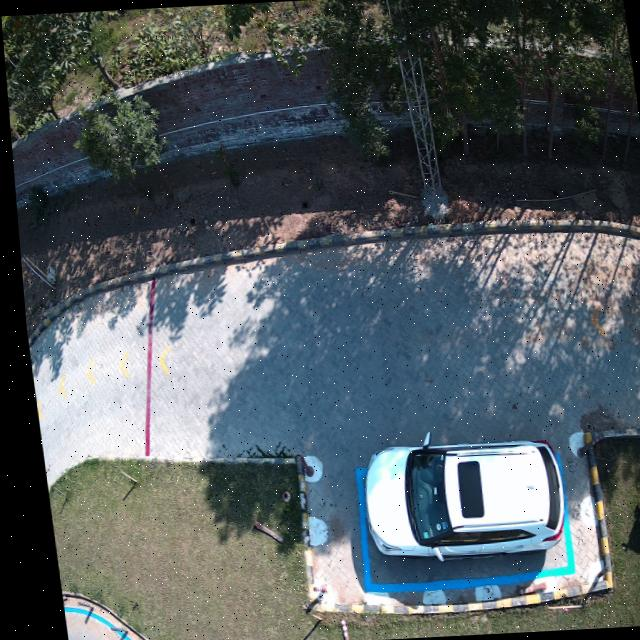car: (355, 433, 557, 561)
